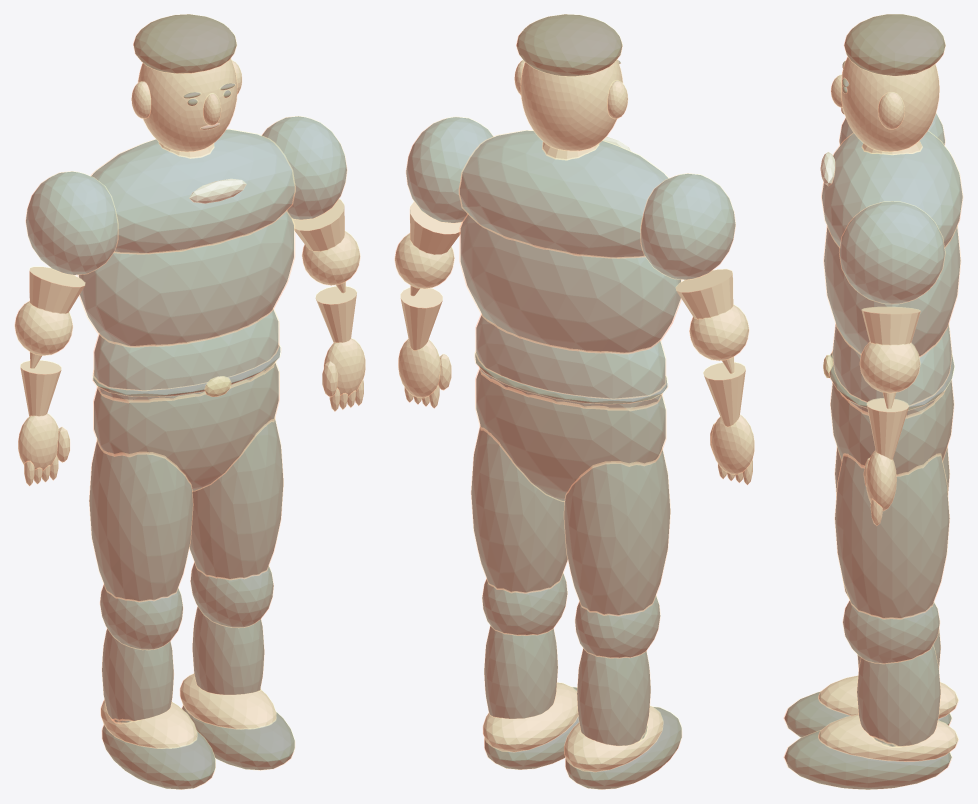
The model's file is body.glb.
3 renders of one model, left to right at view 1: azimuth 30°, elevation 25°; view 2: azimuth 150°, elevation 25°; view 3: azimuth 270°, elevation 25°, orthographic. The views are drawn at different scales.
Parts seen in each view (by area): view 1: hl::shirt_torso__FR, shirt_torso__FR, hl::thigh_L__FR, thigh_L__FR, hl::shirt_chest__FR, shirt_chest__FR, hl::shirt_torso__FL, shirt_torso__FL, hl::pelvis_pants__FR, hl::shirt_chest__FL, shirt_chest__FL, pelvis_pants__FR (+94 smaller); view 2: hl::shirt_torso__BR, shirt_torso__BR, hl::thigh_L__BR, thigh_L__BR, hl::shirt_chest__BR, shirt_chest__BR, hl::shirt_chest__BL, shirt_chest__BL, hl::shirt_torso__BL, shirt_torso__BL, hl::pelvis_pants__BR, pelvis_pants__BR (+91 smaller); view 3: hl::thigh_R__BL, thigh_R__BL, hl::thigh_R__FL, thigh_R__FL, hl::shirt_chest__BL, shirt_chest__BL, hl::shoulder_R__BL, shoulder_R__BL, hl::shoulder_R__FL, hl::shirt_chest__FL, shoulder_R__FL, shirt_chest__FL (+77 smaller).
Part boxes in pixels (x1=…): hl::shirt_torso__FR: x1=82, y1=244, x2=220, y2=347; shirt_torso__FR: x1=83, y1=245, x2=219, y2=345; hl::thigh_L__FR: x1=97, y1=451, x2=175, y2=602; thigh_L__FR: x1=98, y1=451, x2=174, y2=600; hl::shirt_chest__FR: x1=104, y1=150, x2=221, y2=254; shirt_chest__FR: x1=104, y1=151, x2=220, y2=253; hl::shirt_torso__FL: x1=202, y1=210, x2=295, y2=339; shirt_torso__FL: x1=202, y1=211, x2=293, y2=338; hl::pelvis_pants__FR: x1=97, y1=392, x2=216, y2=491; hl::shirt_chest__FL: x1=193, y1=134, x2=295, y2=244; shirt_chest__FL: x1=193, y1=135, x2=294, y2=243; pelvis_pants__FR: x1=98, y1=394, x2=216, y2=490; hl::shirt_torso__BR: x1=536, y1=248, x2=677, y2=353; shirt_torso__BR: x1=536, y1=249, x2=676, y2=352; hl::thigh_L__BR: x1=582, y1=460, x2=662, y2=615; thigh_L__BR: x1=582, y1=461, x2=661, y2=614; hl::shirt_chest__BR: x1=535, y1=145, x2=661, y2=258; shirt_chest__BR: x1=535, y1=146, x2=660, y2=257; hl::shirt_chest__BL: x1=459, y1=133, x2=563, y2=248; shirt_chest__BL: x1=460, y1=134, x2=563, y2=247; hl::shirt_torso__BL: x1=459, y1=214, x2=554, y2=346; shirt_torso__BL: x1=460, y1=214, x2=554, y2=344; hl::pelvis_pants__BR: x1=539, y1=400, x2=662, y2=501; pelvis_pants__BR: x1=540, y1=401, x2=661, y2=500; hl::thigh_R__BL: x1=883, y1=453, x2=949, y2=619; thigh_R__BL: x1=883, y1=455, x2=949, y2=618; hl::thigh_R__FL: x1=834, y1=453, x2=892, y2=618; thigh_R__FL: x1=835, y1=455, x2=892, y2=617; hl::shirt_chest__BL: x1=881, y1=146, x2=963, y2=247; shirt_chest__BL: x1=881, y1=147, x2=962, y2=246; hl::shoulder_R__BL: x1=884, y1=204, x2=945, y2=304; shoulder_R__BL: x1=884, y1=205, x2=944, y2=303; hl::shoulder_R__FL: x1=839, y1=204, x2=892, y2=304; hl::shirt_chest__FL: x1=821, y1=146, x2=891, y2=247; shoulder_R__FL: x1=839, y1=205, x2=892, y2=303; shirt_chest__FL: x1=822, y1=147, x2=891, y2=246.
Size of the model in its own units: 0.9161 by 1.86 by 0.4092.
